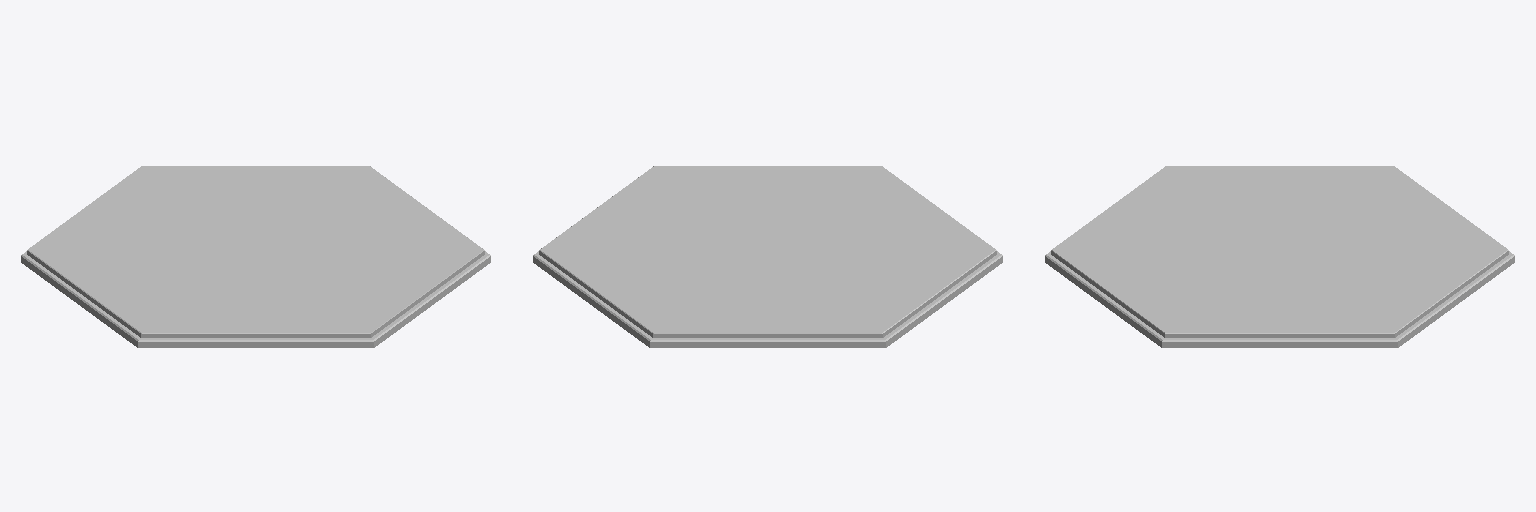
The model's file is floor2.obj.
3 views of the same model, side by side, from view 1: azimuth 30°, elevation 25°; view 2: azimuth 150°, elevation 25°; view 3: azimuth 270°, elevation 25° (orthographic).
Visible parts, largest first — view 1: Circle.002_Circle.004; view 2: Circle.002_Circle.004; view 3: Circle.002_Circle.004.
Boxes of the visible parts, box(x1,y1,x2,y2) form: Circle.002_Circle.004: box(21, 166, 490, 347); Circle.002_Circle.004: box(533, 166, 1002, 347); Circle.002_Circle.004: box(1045, 166, 1514, 347).
Size of the model in its own units: 1.74 by 0.0594 by 2.01.